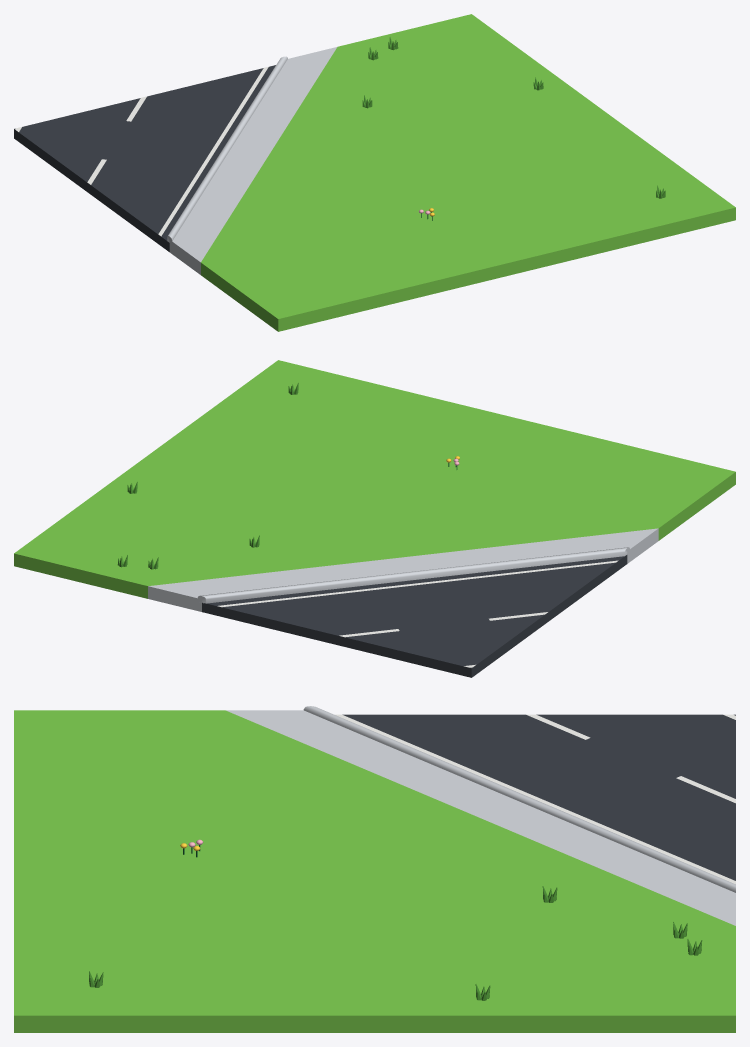
The model's file is avenida_diagonal_enchimento_grama.glb.
3 renders of one model, top to bottom at view 1: azimuth 30°, elevation 25°; view 2: azimuth 150°, elevation 25°; view 3: azimuth 270°, elevation 25°, orthographic. The views are drawn at different scales.
Parts seen in each view (by area): view 1: avenida_diagonal_enchimento_grama; view 2: avenida_diagonal_enchimento_grama; view 3: avenida_diagonal_enchimento_grama.
Boxes of the visible parts, x1,y1,x2,y2 form: avenida_diagonal_enchimento_grama: (14,14,735,331); avenida_diagonal_enchimento_grama: (14,360,735,677); avenida_diagonal_enchimento_grama: (14,706,735,1032).
Size of the model in its own units: 15 by 0.6919 by 15.
Materials: 1 (1 with a texture image).
